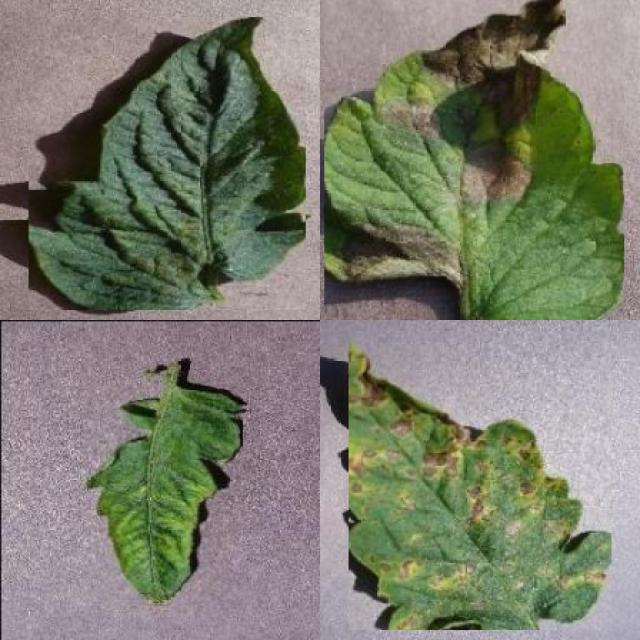Late Blight: (325, 0, 625, 320)
Mosaic Virus: (84, 386, 244, 606)
Septoria: (349, 330, 611, 630)
Spider Mites: (28, 17, 306, 310)
